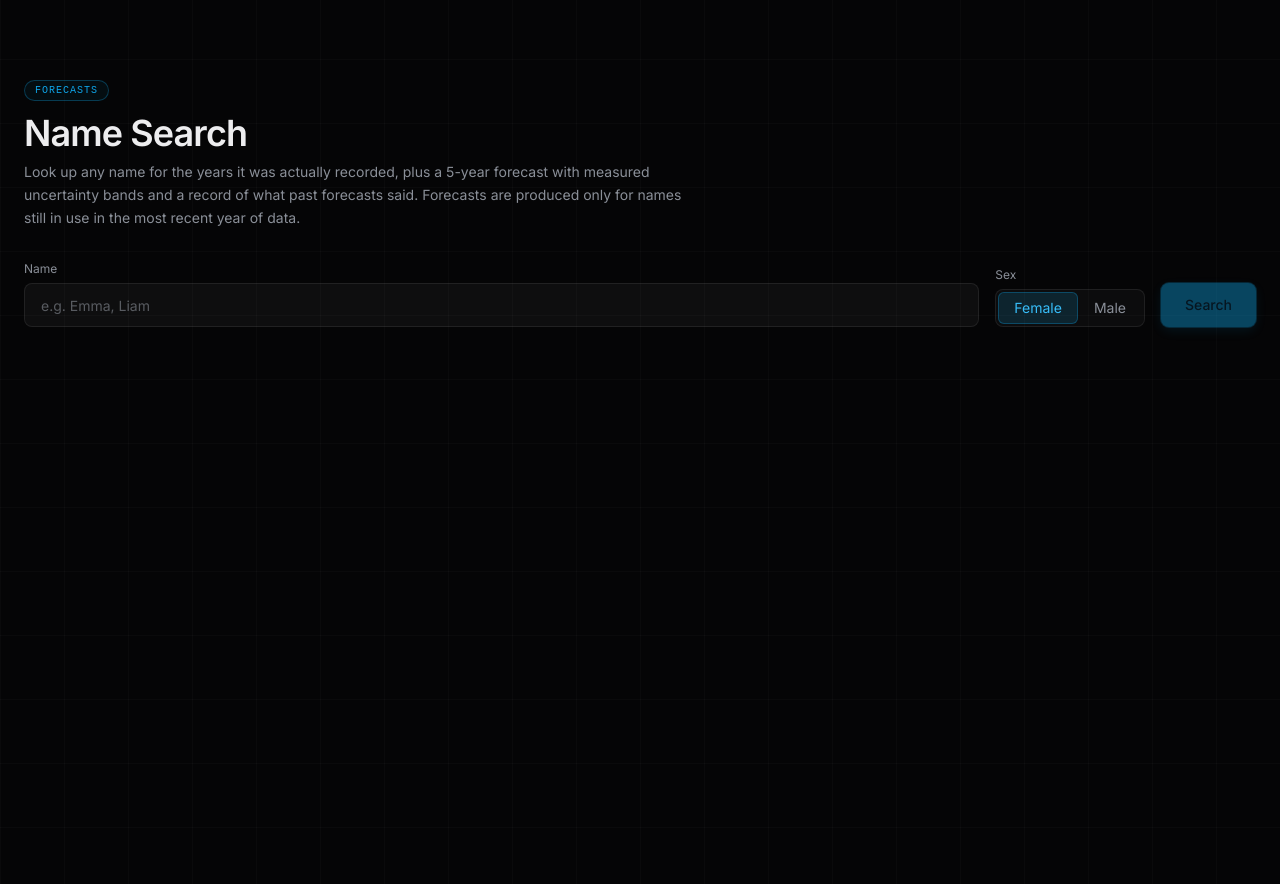
Test: SearchPage statistics disclosure › opens from the keyboard onto every technical figure, announcing that it is open
The width and height of the screenshot is (1280, 884).
In the field labelled "Name": (502, 305) [24,283,979,327], type "Emma"
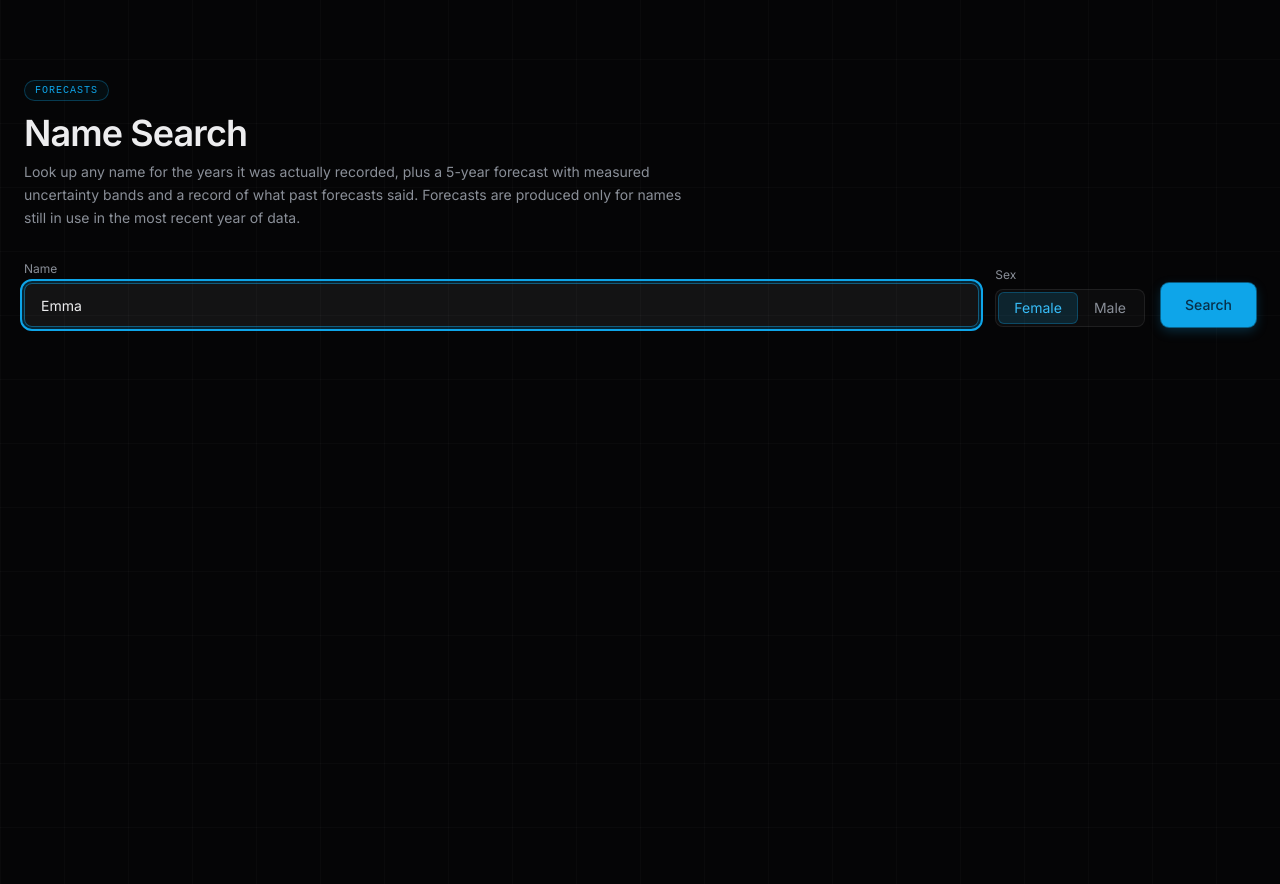
Click the button "Search": (1208, 305) [1161,283,1256,327]
(page scrolled)
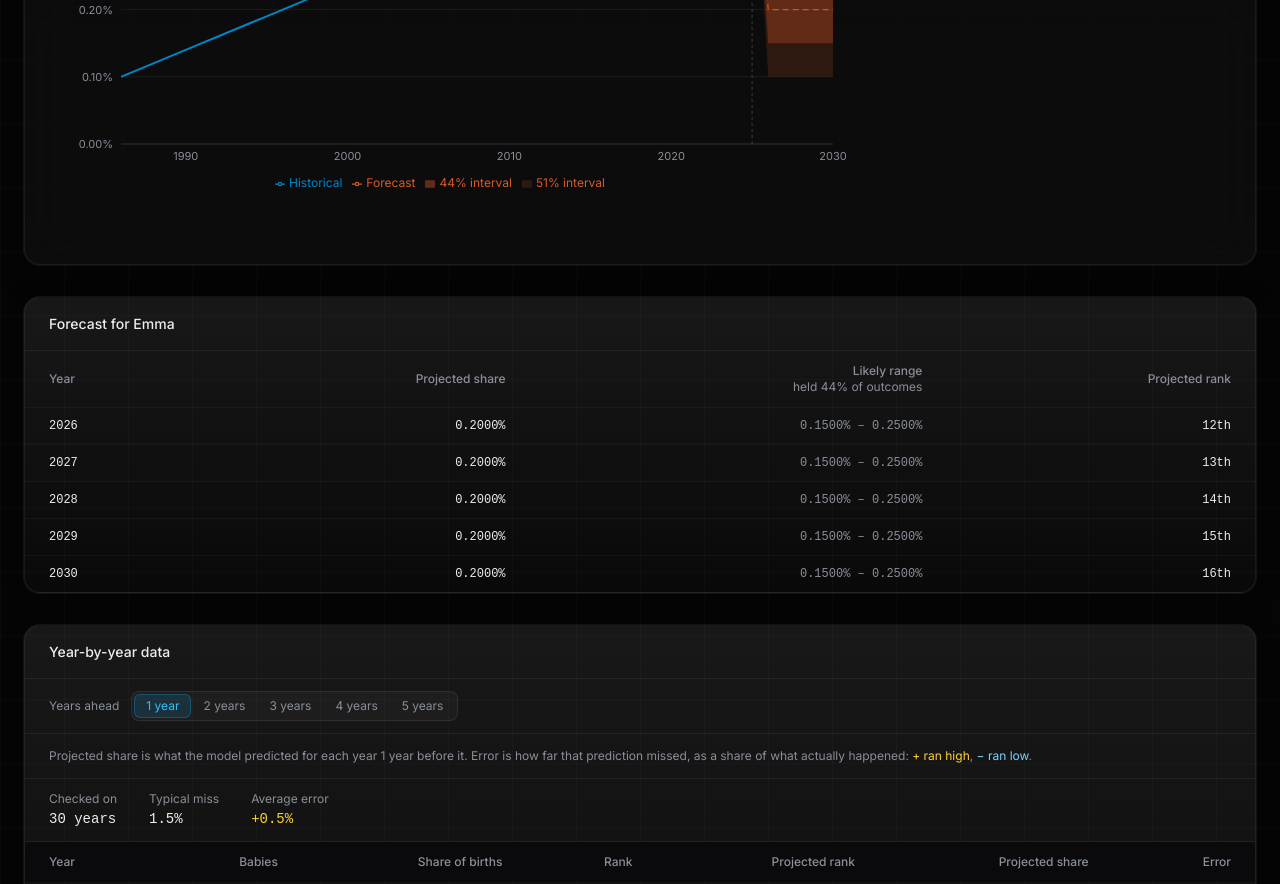
Expected: the table "Forecast" is shown, [25,298,1255,592]
Press Enter
(page scrolled)
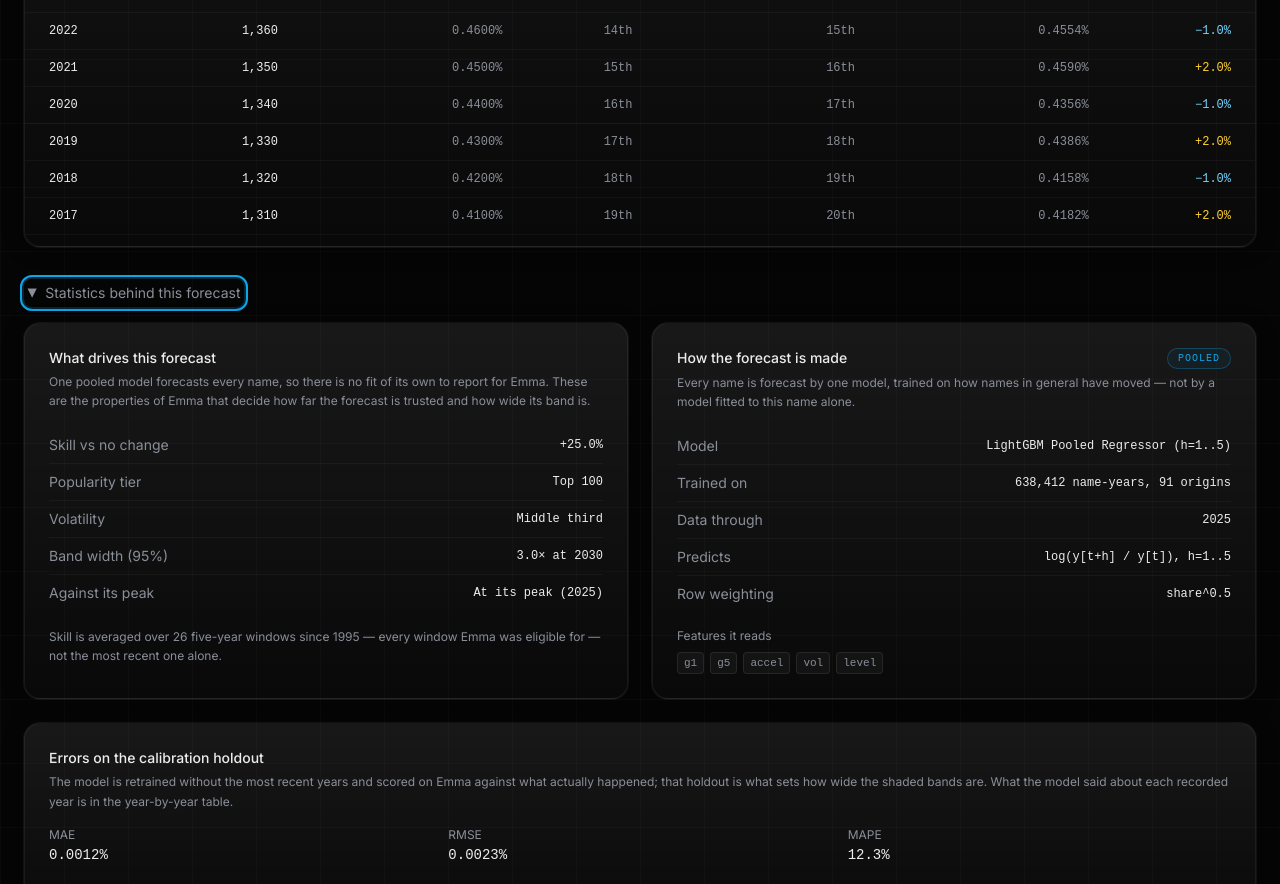
Expected: the button "▶ Statistics behind this forecast" is expanded, [24,279,244,307]
Expected: the heading "What drives this forecast" is shown, [49,349,216,366]
Expected: the heading "How the forecast is made" is shown, [677,348,847,368]
Type keys " "
(page scrolled)
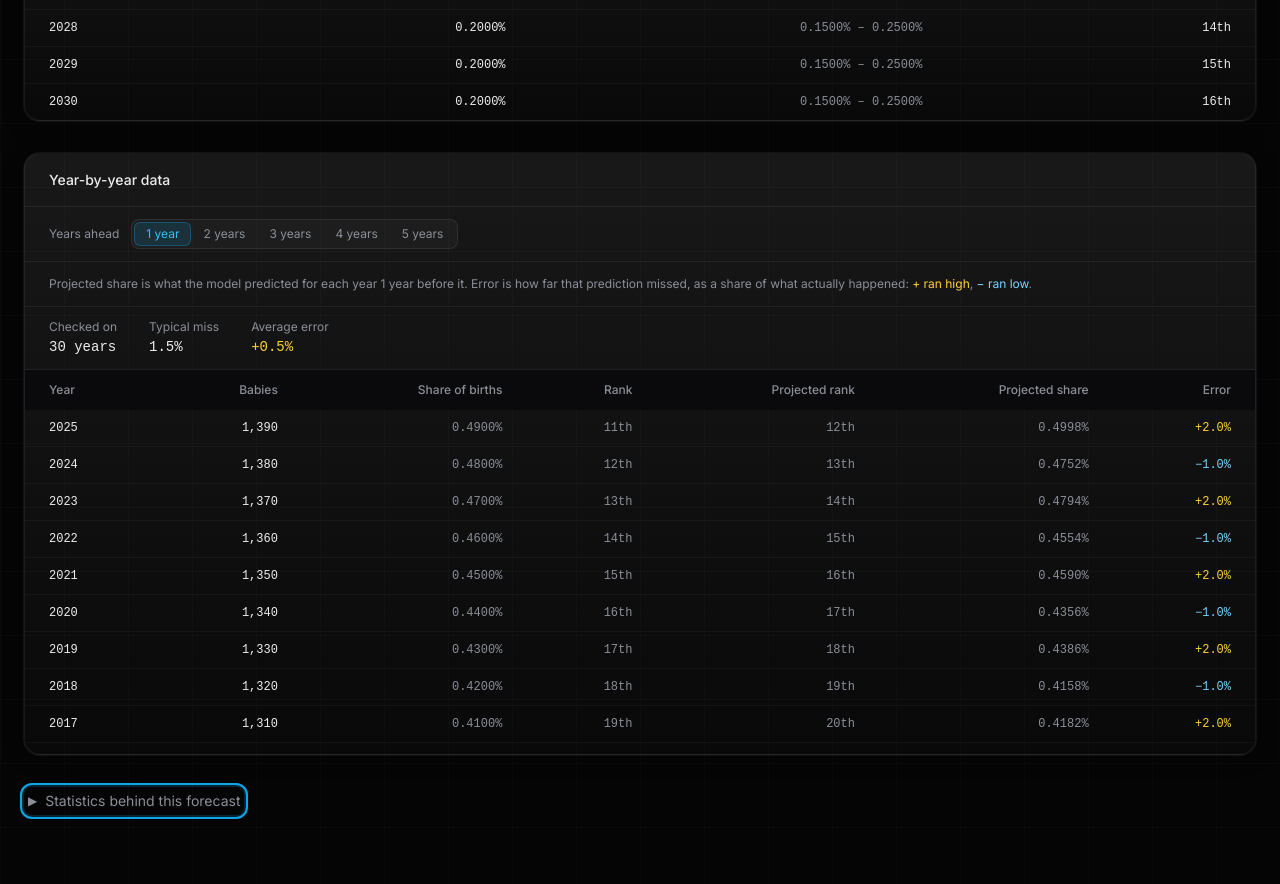
Expected: the button "▶ Statistics behind this forecast" is collapsed, [24,787,244,815]
